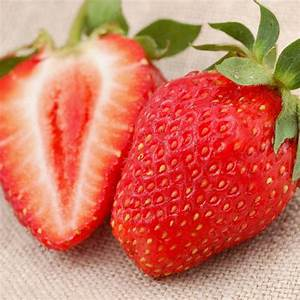Fresa: (107, 58, 300, 287), (1, 21, 164, 257)
